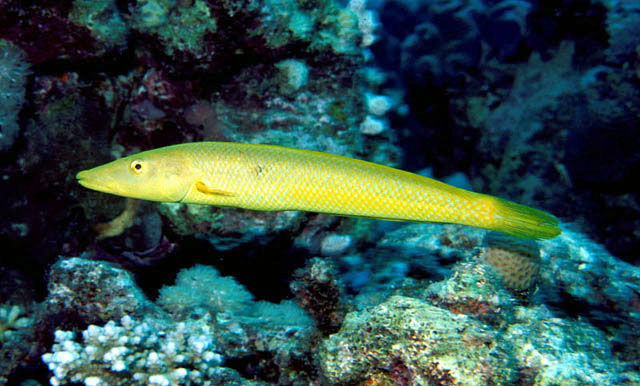fish: (76, 141, 562, 239)
